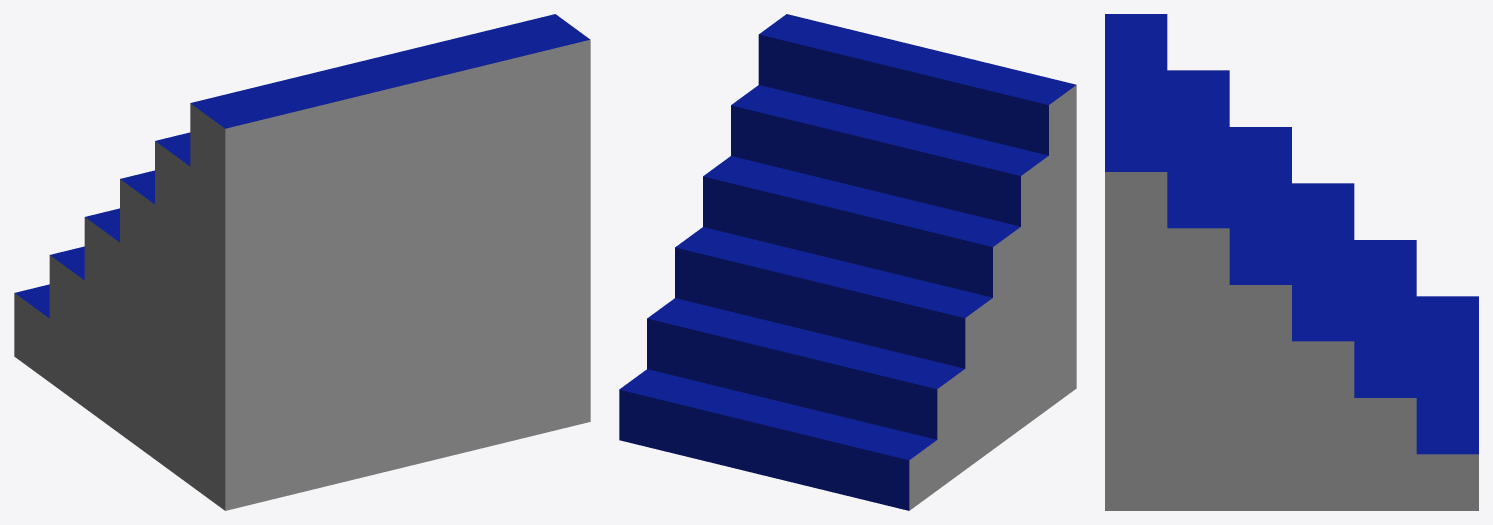
File: 1x1_Stairs_a.fbx
3 views of the same model, side by side, from view 1: azimuth 30°, elevation 25°; view 2: azimuth 150°, elevation 25°; view 3: azimuth 270°, elevation 25° (orthographic). The views are drawn at different scales.
Parts seen in each view (by area): view 1: _x1_Stairs_a; view 2: _x1_Stairs_a; view 3: _x1_Stairs_a.
Part boxes in pixels (<box>): _x1_Stairs_a: <box>14,14,590,510</box>; _x1_Stairs_a: <box>619,14,1076,510</box>; _x1_Stairs_a: <box>1105,14,1478,510</box>.
Size of the model in its own units: 1 by 1 by 1.
